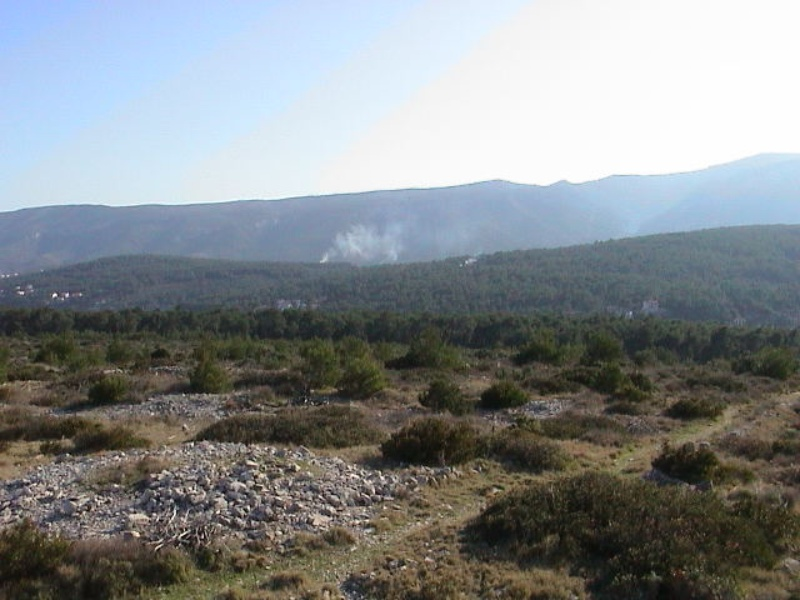smoke: (337, 224, 406, 262)
